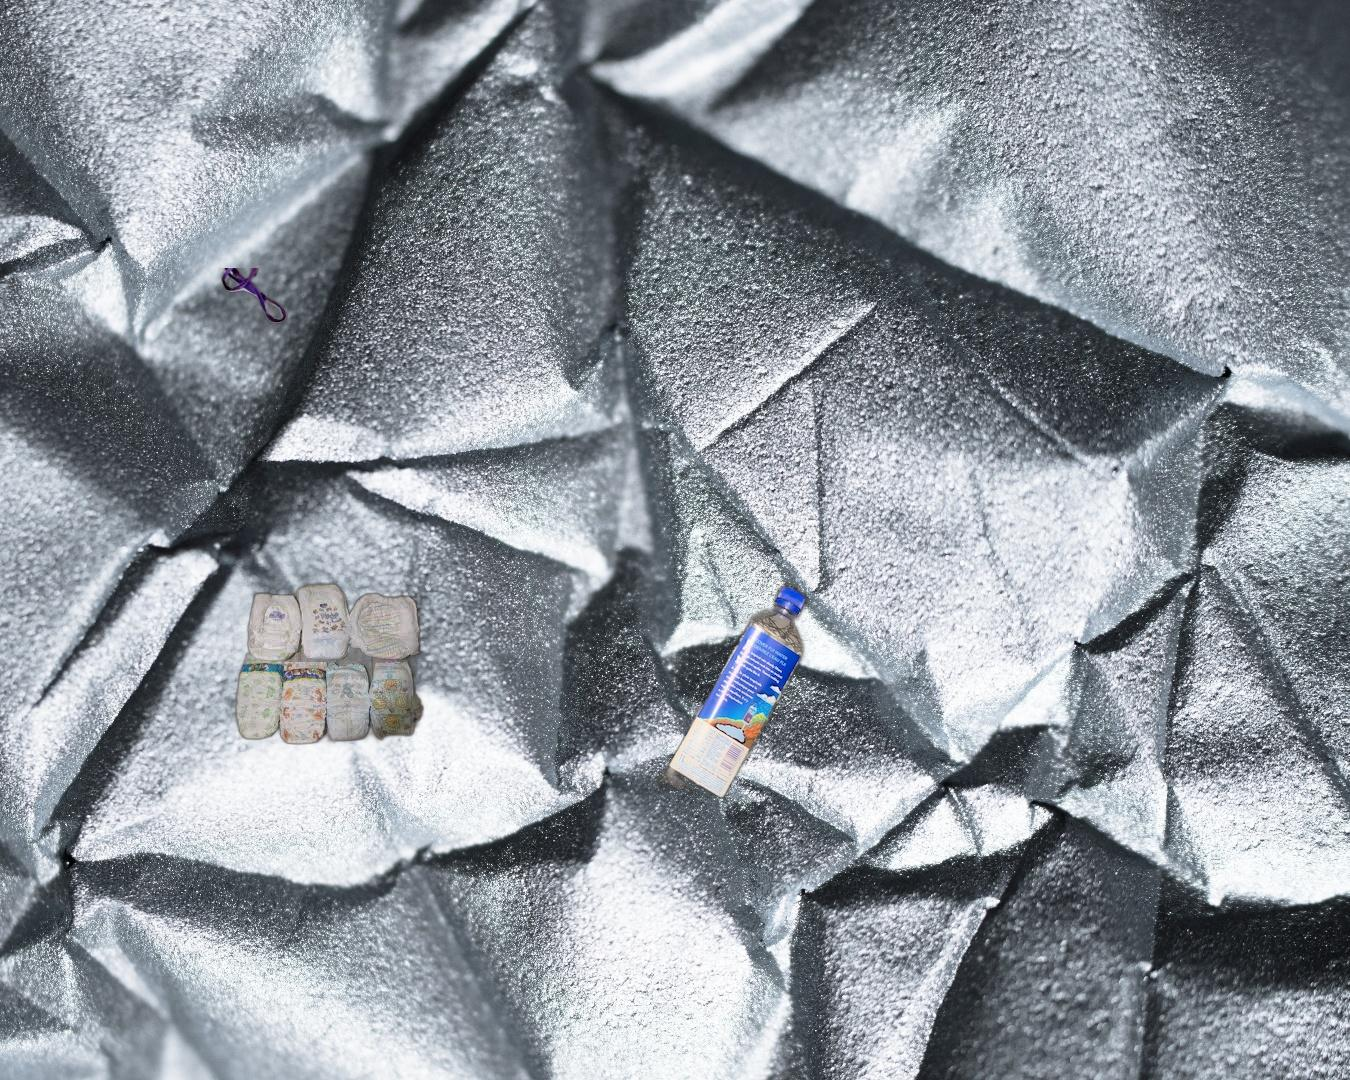plastic-bottles: (523, 577, 811, 821)
shoes: (91, 268, 312, 425)
trash: (218, 581, 435, 749)
